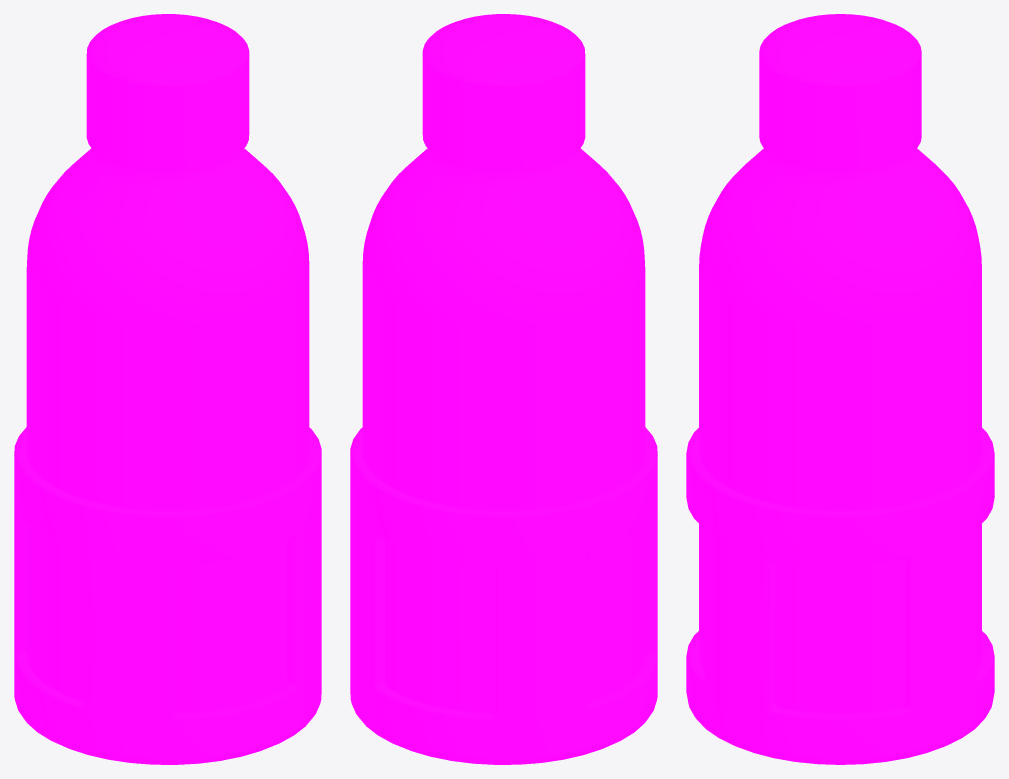
The model's file is WaterBottle_noTextures.gltf.
3 renders of one model, left to right at view 1: azimuth 30°, elevation 25°; view 2: azimuth 150°, elevation 25°; view 3: azimuth 270°, elevation 25°, orthographic.
Parts seen in each view (by area): view 1: WaterBottle; view 2: WaterBottle; view 3: WaterBottle.
Boxes of the visible parts, x1,y1,x2,y2 form: WaterBottle: [14, 14, 321, 764]; WaterBottle: [350, 14, 657, 764]; WaterBottle: [686, 14, 994, 764].
Bounding box in the file's own units: 0.1089 × 0.2604 × 0.1089.
Materials: 1 (1 with a texture image).
